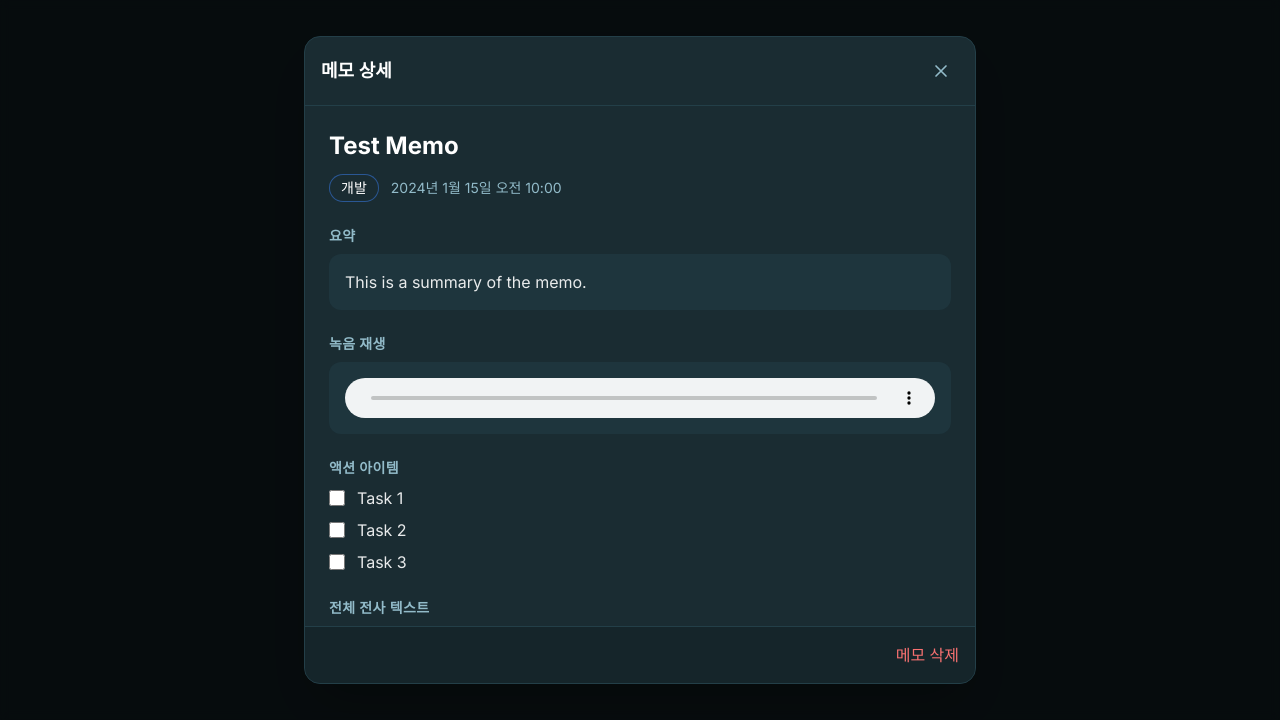
Scenario: MemoDetailModal › deletion › shows delete confirmation when delete button is clicked
Expected: the heading "Test Memo" is shown, [329,131,459,160]
Click the button "메모 삭제" at (927, 655), box [896,643,959,667]
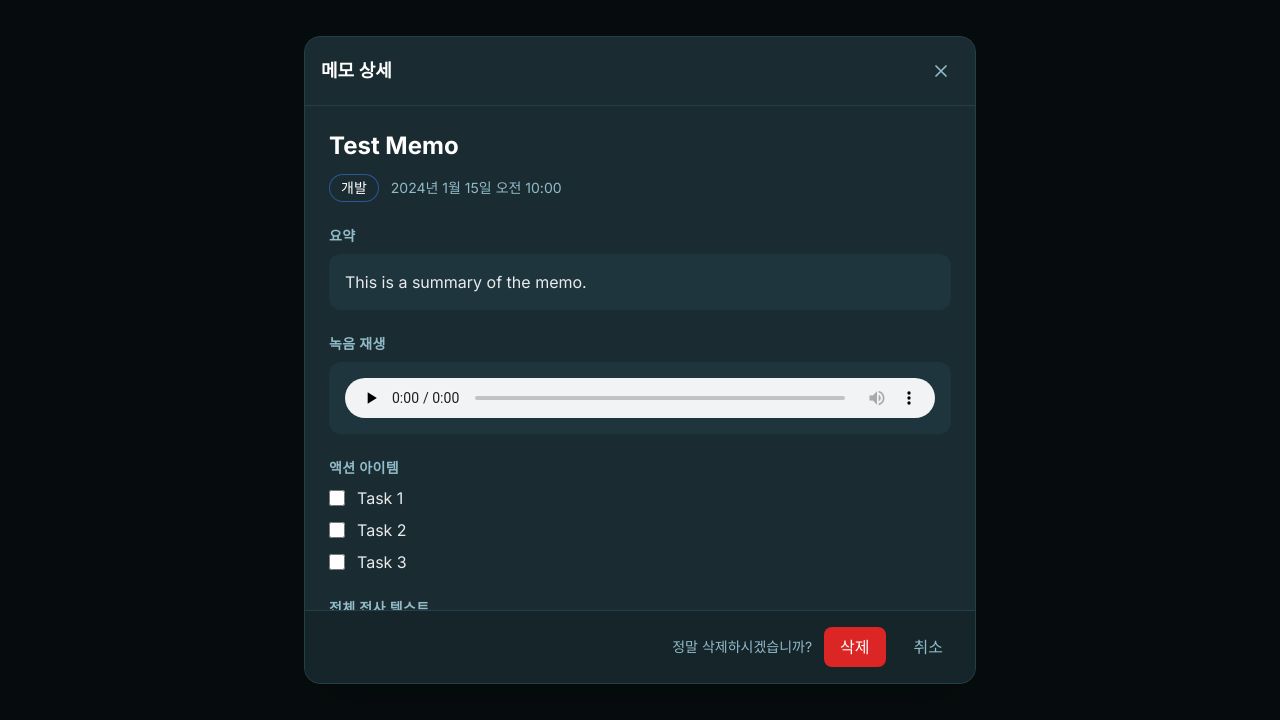
Expected: the text "정말 삭제하시겠습니까?" is shown, [672,637,812,657]
Expected: the button "삭제" is shown, [824,627,886,667]
Expected: the button "취소" is shown, [898,627,959,667]
